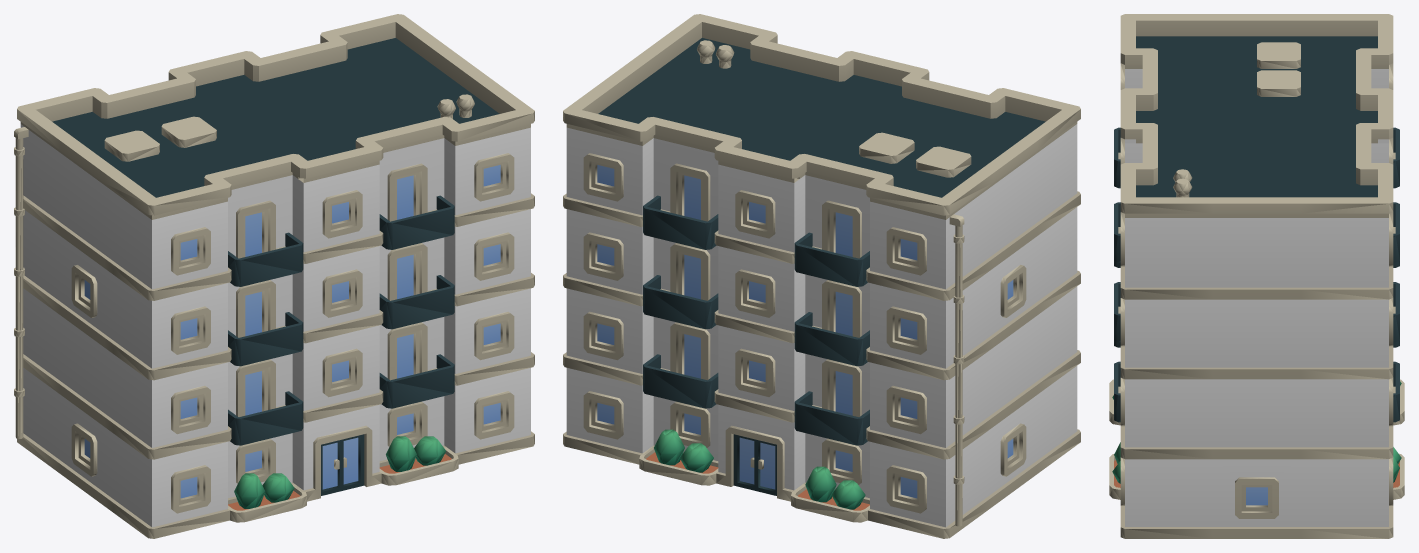
Rendered from building-j.glb.
3 renders of one model, left to right at view 1: azimuth 30°, elevation 25°; view 2: azimuth 150°, elevation 25°; view 3: azimuth 270°, elevation 25°, orthographic.
Parts seen in each view (by area): view 1: building-j; view 2: building-j; view 3: building-j.
Boxes of the visible parts, left/top/right/bottom form: building-j: left=14, top=14, right=534, bottom=538; building-j: left=563, top=14, right=1080, bottom=538; building-j: left=1109, top=14, right=1404, bottom=538.
Bounding box in the file's own units: 20.84 × 16.93 × 13.4.
